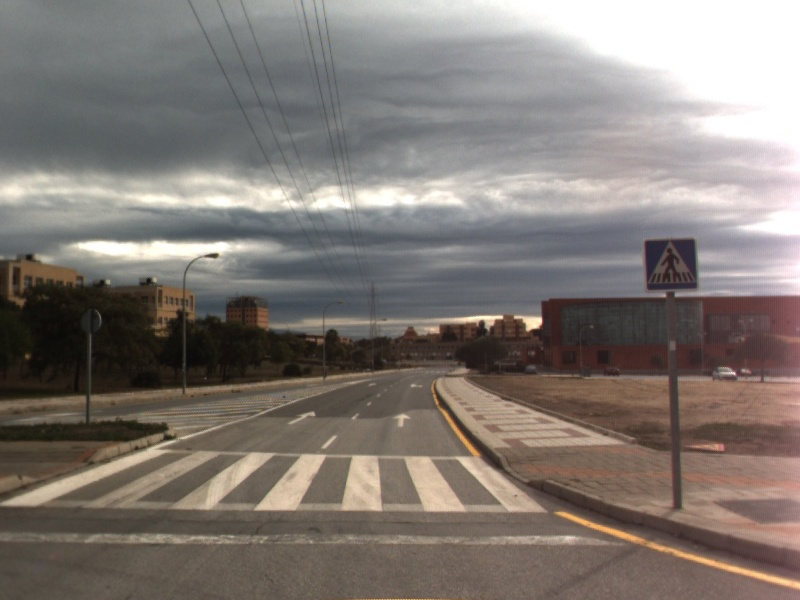STRAIGHT: (285, 409, 318, 426), (390, 411, 413, 429)
